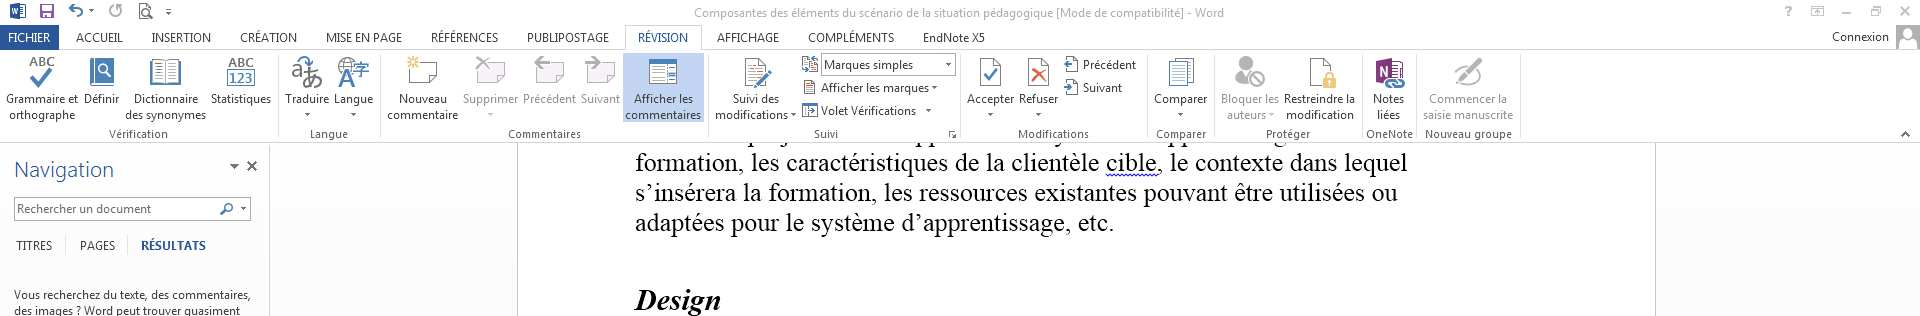texte: (786, 138, 947, 181), (29, 58, 181, 88), (804, 89, 915, 129), (902, 213, 1070, 238), (636, 149, 743, 181), (716, 89, 795, 129), (1011, 143, 1100, 171), (291, 56, 369, 88), (769, 182, 876, 205), (634, 289, 720, 316), (636, 213, 724, 238), (16, 160, 113, 182), (812, 213, 894, 238), (802, 56, 912, 73), (1035, 182, 1136, 201), (1144, 185, 1227, 207), (10, 100, 75, 129), (636, 182, 735, 201), (1107, 149, 1162, 181), (107, 119, 167, 147), (1280, 182, 1364, 201), (1344, 153, 1407, 178), (81, 238, 204, 250), (1196, 156, 1283, 171), (920, 189, 1027, 201), (1064, 56, 1136, 72), (820, 83, 937, 92), (731, 219, 779, 238), (1291, 153, 1337, 171), (1157, 130, 1205, 147), (748, 143, 776, 171), (173, 292, 250, 301), (809, 33, 894, 42), (212, 94, 271, 107), (1267, 130, 1309, 147), (528, 33, 609, 42), (409, 59, 437, 83), (1236, 182, 1272, 201), (1430, 94, 1506, 103), (56, 296, 89, 316), (1155, 94, 1207, 107), (464, 94, 539, 103), (626, 110, 700, 119), (229, 58, 253, 83), (7, 94, 78, 103), (509, 130, 580, 138), (1284, 94, 1354, 103), (634, 93, 693, 103), (943, 89, 958, 129), (1287, 110, 1353, 119), (147, 113, 204, 122), (980, 58, 1000, 85), (1029, 58, 1049, 85), (432, 33, 497, 42), (969, 94, 1014, 107), (1168, 143, 1188, 171), (135, 94, 198, 103), (1079, 216, 1113, 231), (718, 33, 779, 42), (924, 33, 984, 42), (388, 111, 458, 119), (152, 33, 211, 42), (885, 182, 912, 201), (18, 205, 76, 213), (1064, 83, 1122, 92), (44, 290, 100, 299), (241, 33, 296, 42), (1833, 32, 1888, 40), (336, 94, 373, 107), (97, 205, 151, 213), (1310, 58, 1326, 86), (956, 153, 980, 171), (973, 23, 988, 51), (639, 33, 687, 42), (681, 85, 697, 110), (400, 94, 446, 103), (1367, 130, 1412, 138), (285, 94, 329, 103), (1427, 130, 1469, 138), (327, 33, 369, 42), (311, 130, 347, 140), (987, 153, 1005, 171), (786, 213, 804, 231), (1020, 94, 1058, 103), (1371, 189, 1397, 201), (16, 241, 51, 250), (84, 94, 119, 103), (744, 182, 760, 201), (15, 306, 47, 315), (120, 292, 147, 301), (1476, 132, 1511, 140), (1374, 94, 1403, 103), (373, 33, 402, 42), (70, 85, 78, 111), (13, 290, 39, 299), (547, 96, 576, 103), (733, 94, 757, 103), (213, 307, 240, 315), (1067, 78, 1078, 96), (1378, 110, 1400, 119), (591, 97, 620, 103), (147, 307, 170, 315), (118, 306, 135, 316), (804, 80, 816, 94), (538, 56, 550, 69), (70, 234, 76, 258), (126, 110, 143, 119), (152, 290, 169, 299), (762, 94, 779, 103), (189, 309, 208, 316), (104, 290, 116, 299), (96, 306, 107, 315), (80, 207, 92, 213), (1501, 111, 1509, 119), (905, 86, 910, 96), (1269, 97, 1278, 102), (584, 97, 589, 100), (305, 113, 310, 116), (351, 113, 356, 116), (947, 62, 951, 66), (988, 113, 993, 116), (1036, 113, 1041, 116), (1178, 113, 1183, 116), (927, 109, 931, 111)
